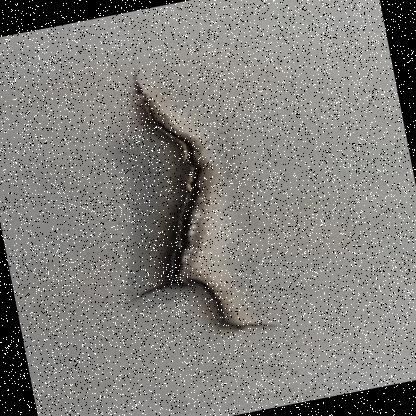Crack: (24, 26, 352, 382)
